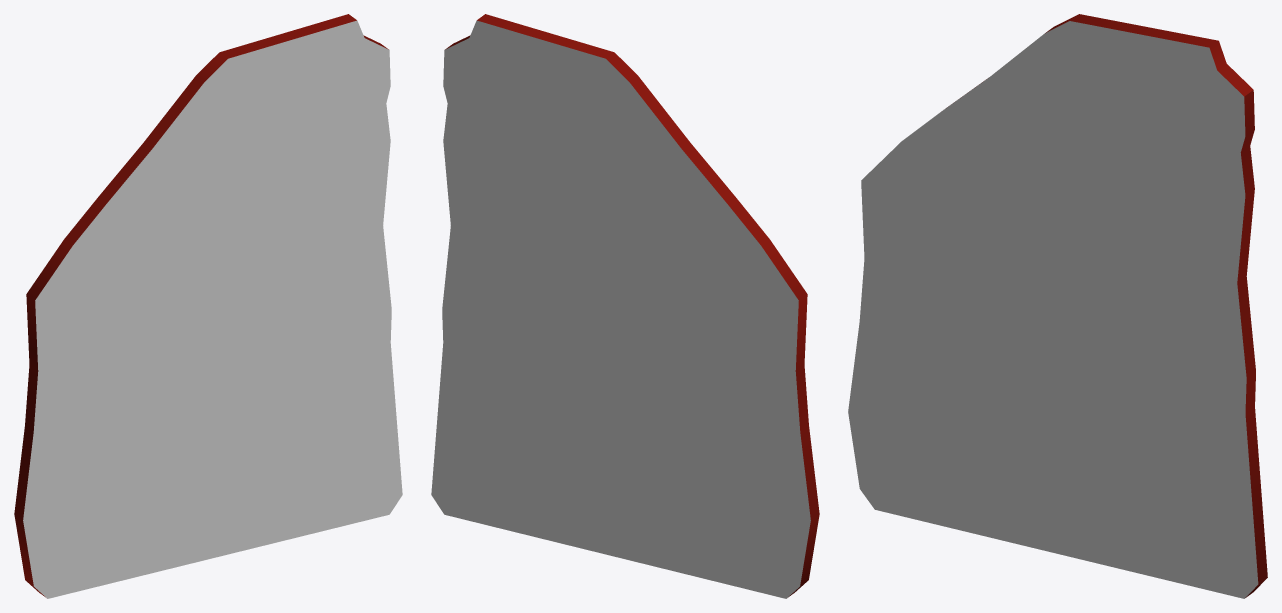
File: cashier.fbx
3 views of the same model, side by side, from view 1: azimuth 30°, elevation 25°; view 2: azimuth 150°, elevation 25°; view 3: azimuth 330°, elevation 25° (orthographic). The views are drawn at different scales.
Parts seen in each view (by area): view 1: Plane006; view 2: Plane006; view 3: Plane006.
Part boxes in pixels (x1,y1,x2,y2): Plane006: (14,14,402,598); Plane006: (431,14,819,598); Plane006: (848,14,1267,598).
Size of the model in its own units: 52.97 by 67.08 by 2.12.
